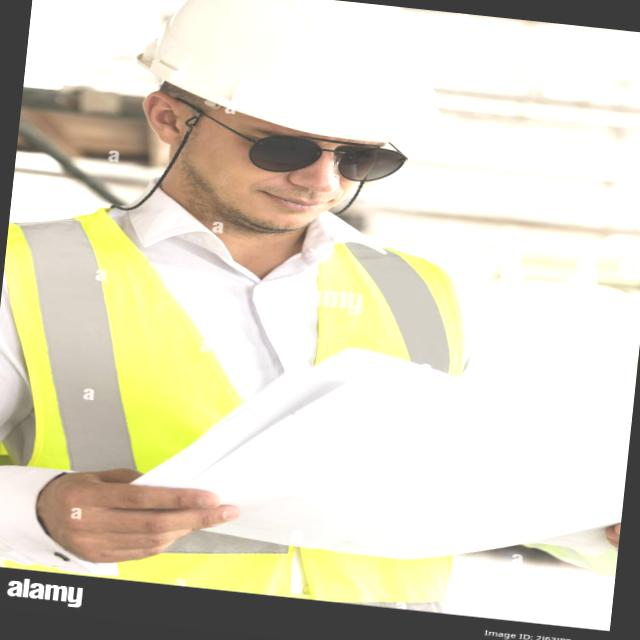goggles: (228, 122, 410, 190)
helmet: (127, 0, 487, 155)
vest: (0, 196, 495, 617)
